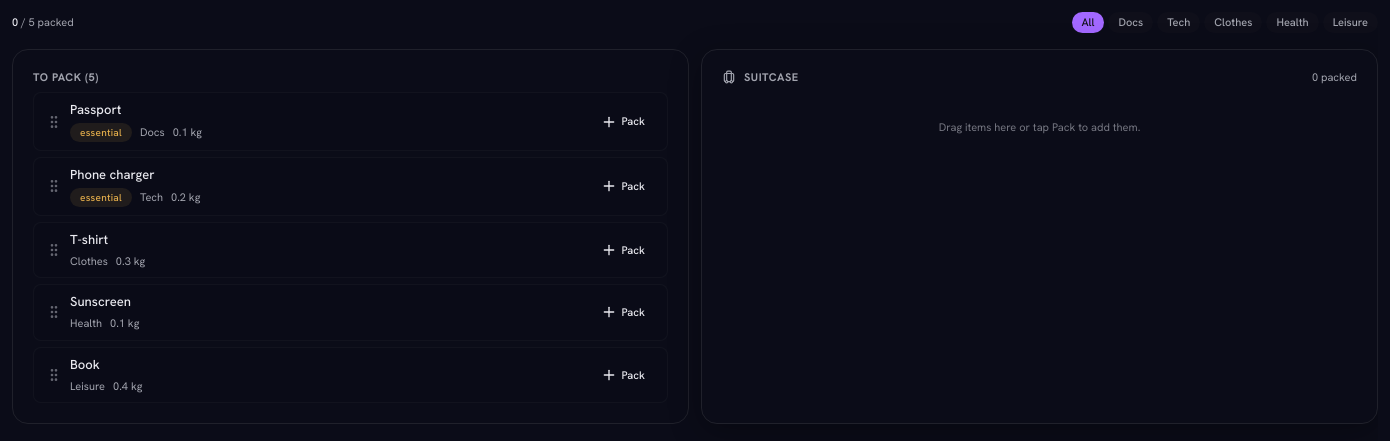
Test case: PackingMission › should move an item to the suitcase via the Pack button
This screenshot has width=1390, height=441.
Click the button with aria-label "Pack Book": {"x": 623, "y": 375} [591, 359, 655, 391]
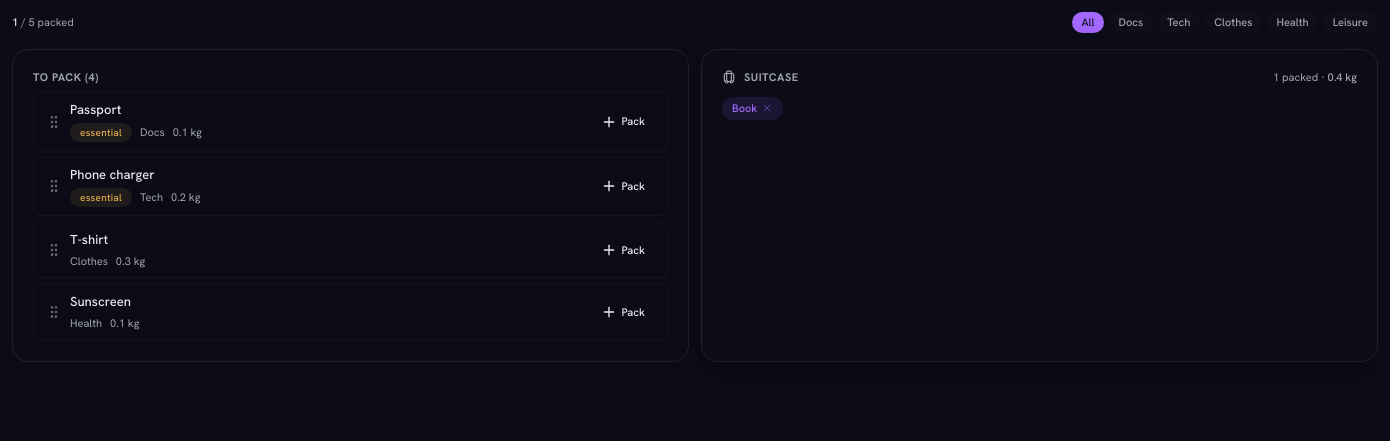
Expected: the button with aria-label "Unpack Book" is shown, [722, 97, 783, 120]
Expected: the list labelled "Pack Book" is gone
